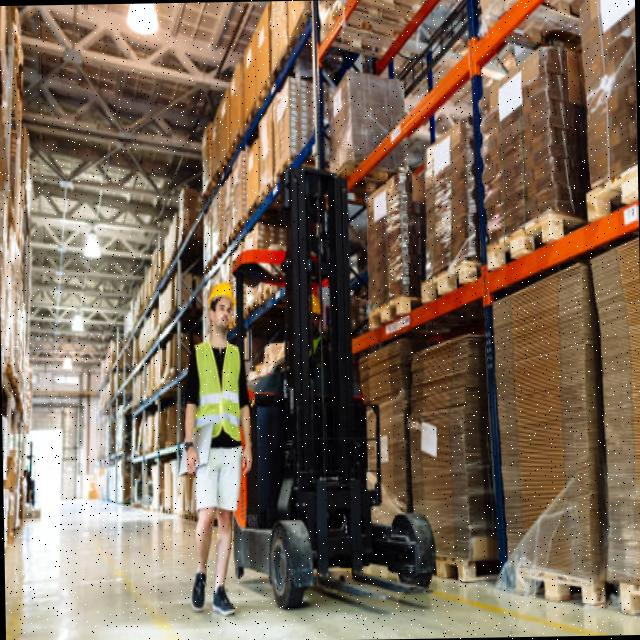Wooden-Pallets: (482, 203, 583, 278), (514, 551, 603, 621), (415, 249, 485, 326), (363, 285, 410, 346)
